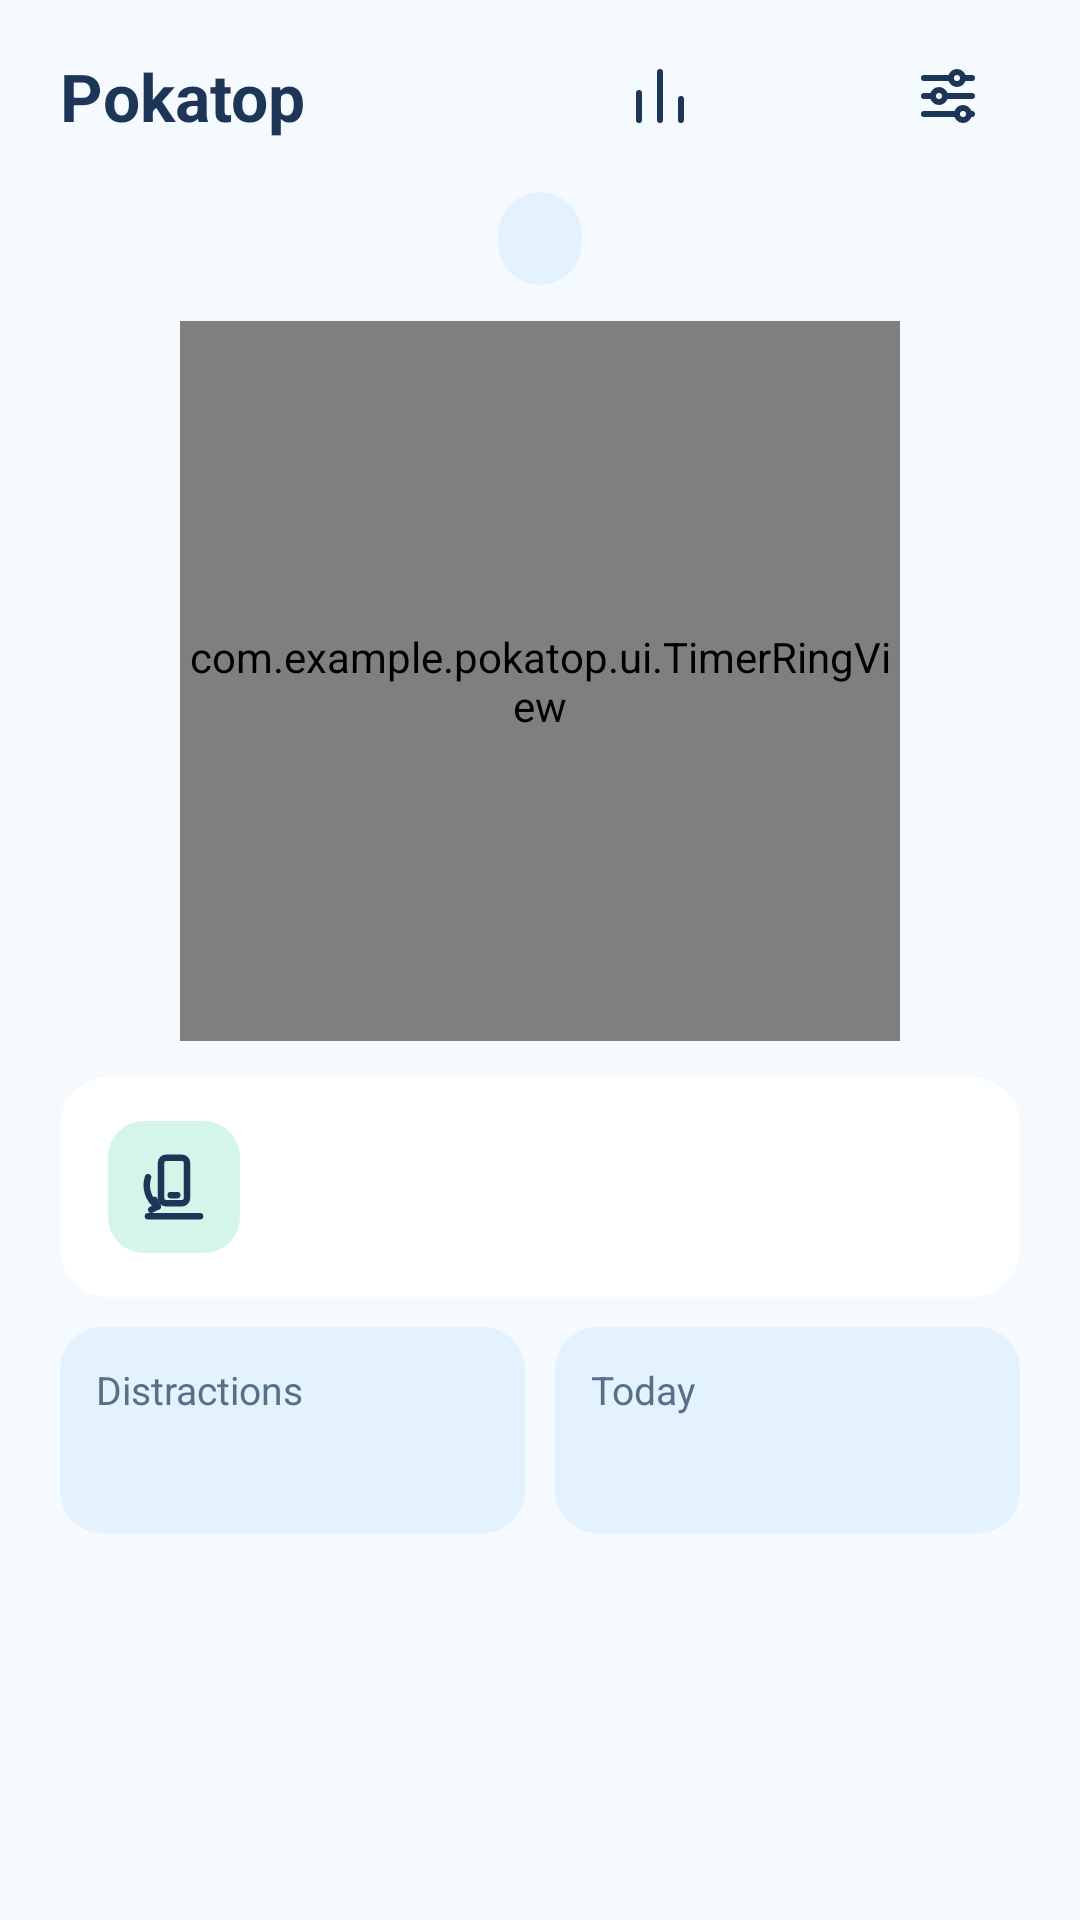

Named icons in this screenshot (1080*1920) and their centers, (x=x, y=y):
flip: (x=174, y=1187)
Settings: (x=948, y=96)
Stats: (x=660, y=96)
